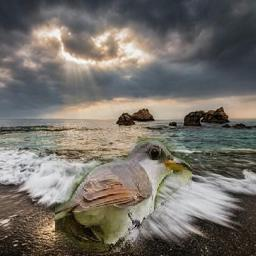Cuckoo: (56, 138, 193, 252)
